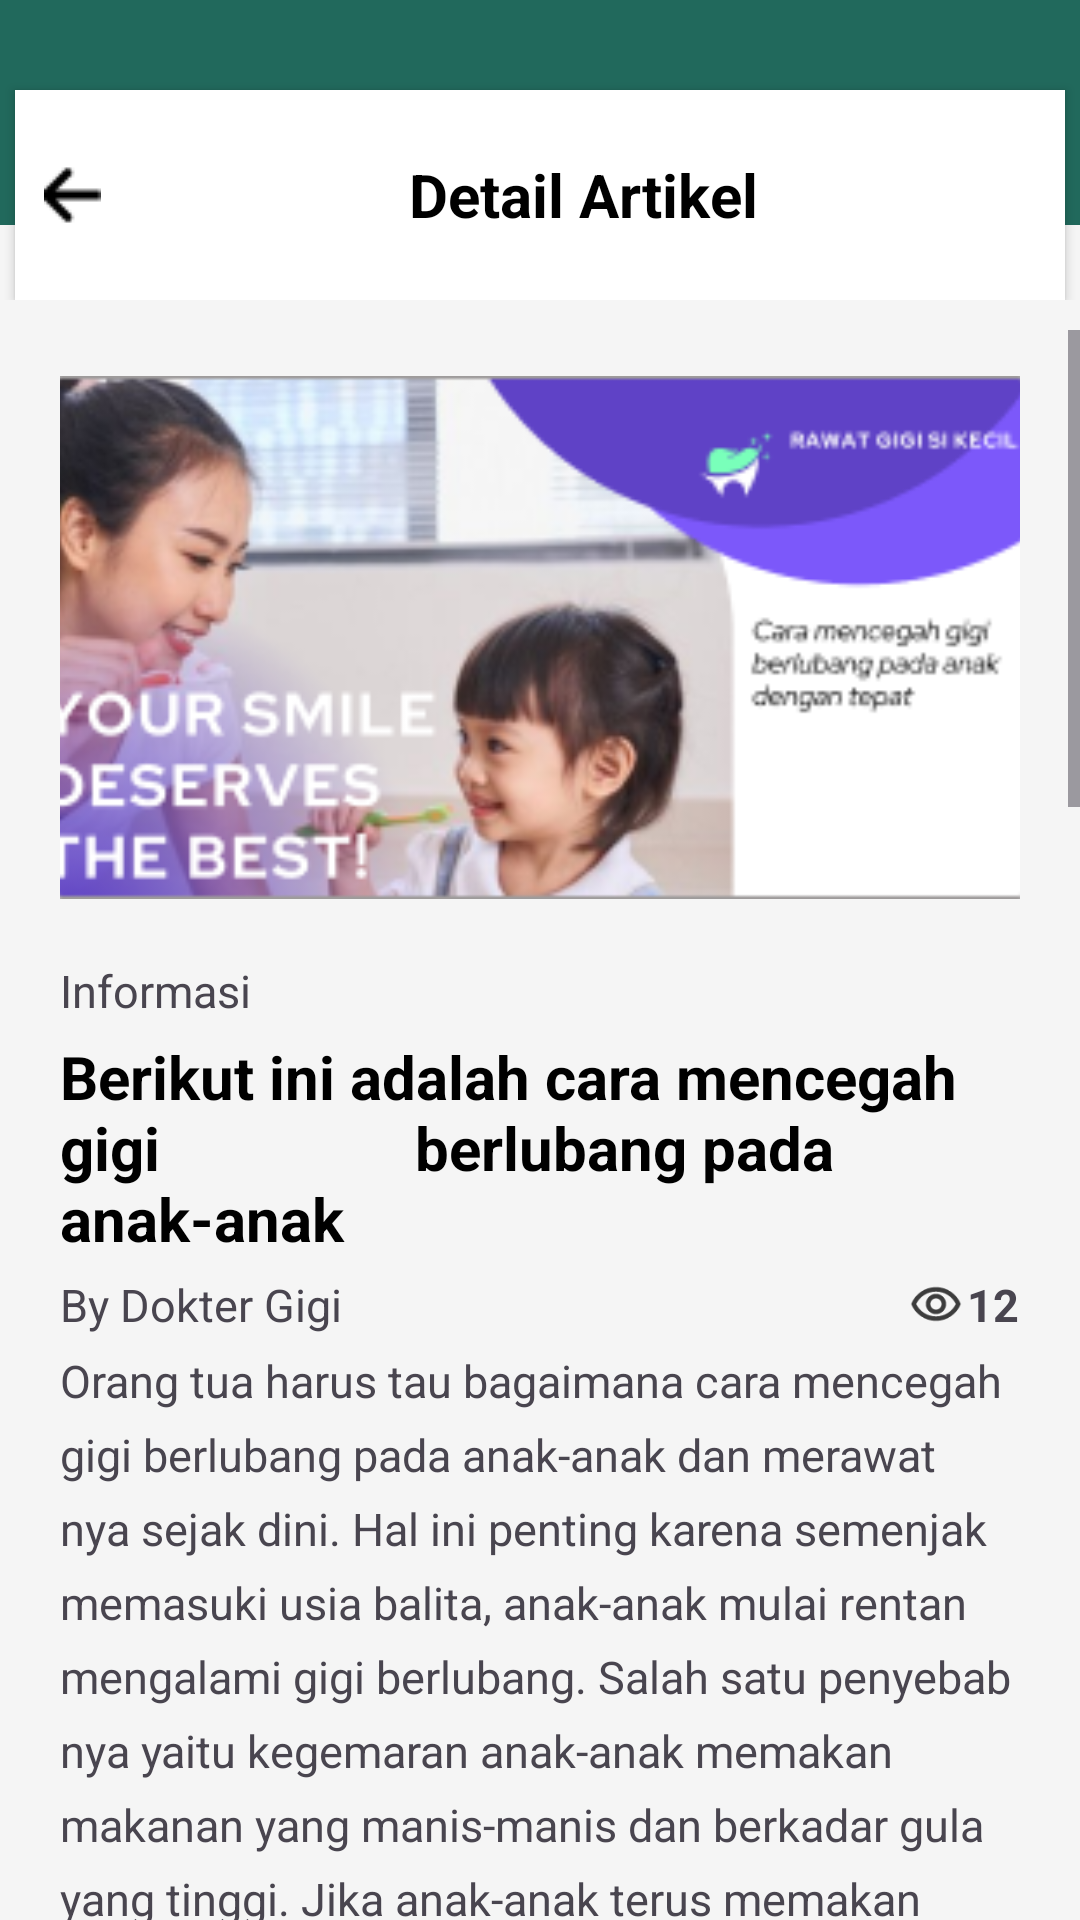

Icons on this 1080*1920 Android screen, each with the point to tap as point (x, y):
arrow back: point (72, 195)
